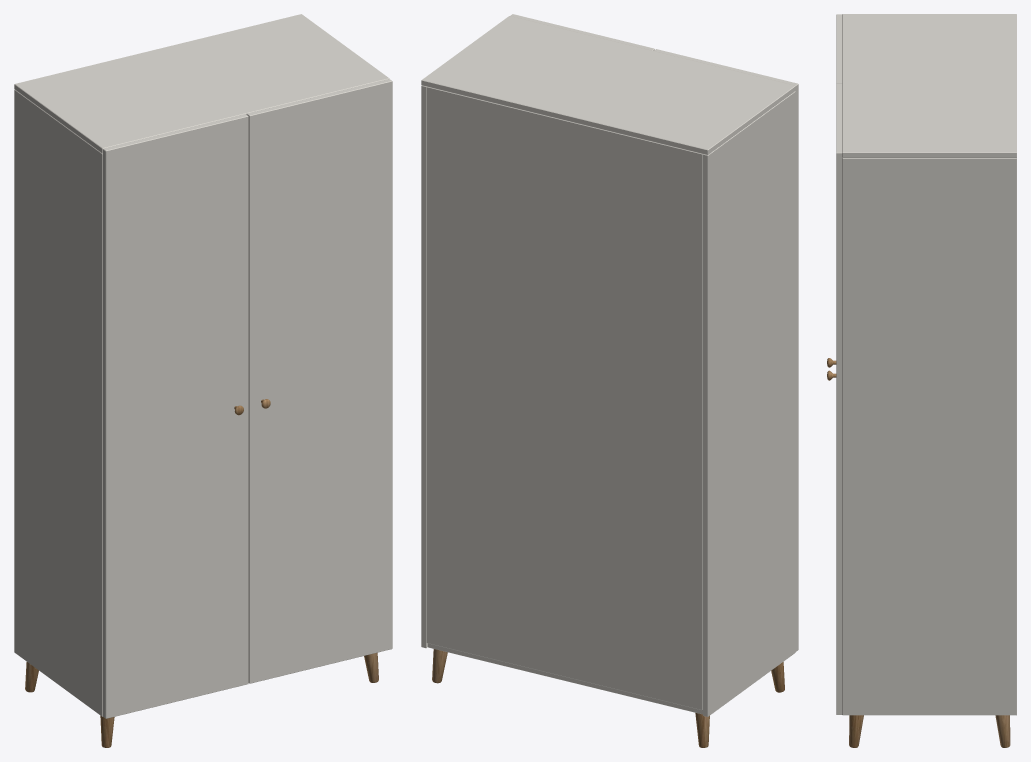
Rendered from armario_nordico_2p_100.glb.
The picture shows the model from 3 angles, left to right: view 1: azimuth 30°, elevation 25°; view 2: azimuth 150°, elevation 25°; view 3: azimuth 270°, elevation 25°; orthographic projection.
Visible parts, largest first — view 1: armario_nordico_2p_100; view 2: armario_nordico_2p_100; view 3: armario_nordico_2p_100.
Boxes of the visible parts, <box> form: armario_nordico_2p_100: <box>14,14,392,747</box>; armario_nordico_2p_100: <box>421,14,798,747</box>; armario_nordico_2p_100: <box>827,14,1016,747</box>.
Bounding box in the file's own units: 1 × 2.01 × 0.578.
2 materials, 1 textured.
